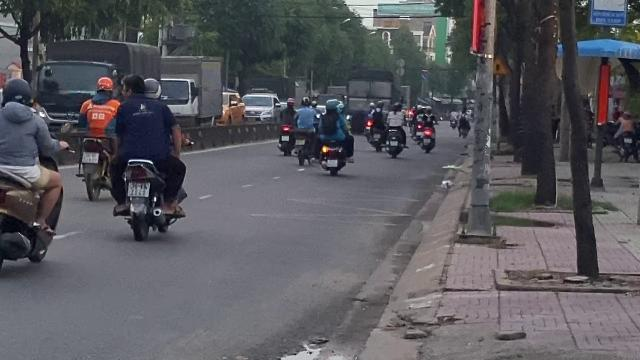helmet: (0, 76, 32, 108), (94, 75, 114, 95), (142, 77, 160, 97)
licenseplate: (128, 182, 148, 196), (82, 152, 98, 162)
motorcyclist: (106, 72, 190, 240), (0, 75, 66, 279), (75, 75, 118, 199)
nohelmet: (122, 73, 144, 95)
